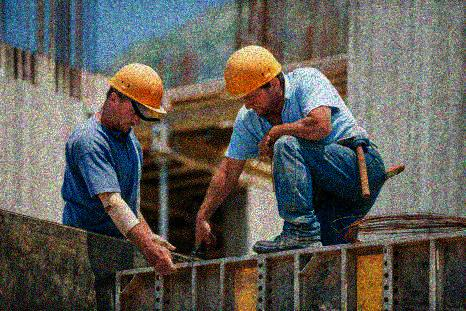helmet: (101, 62, 167, 134), (219, 44, 284, 116)
